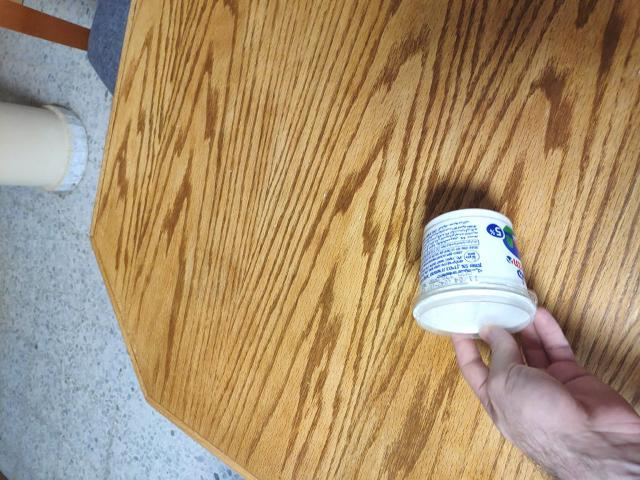cotage: (415, 213, 544, 341)
